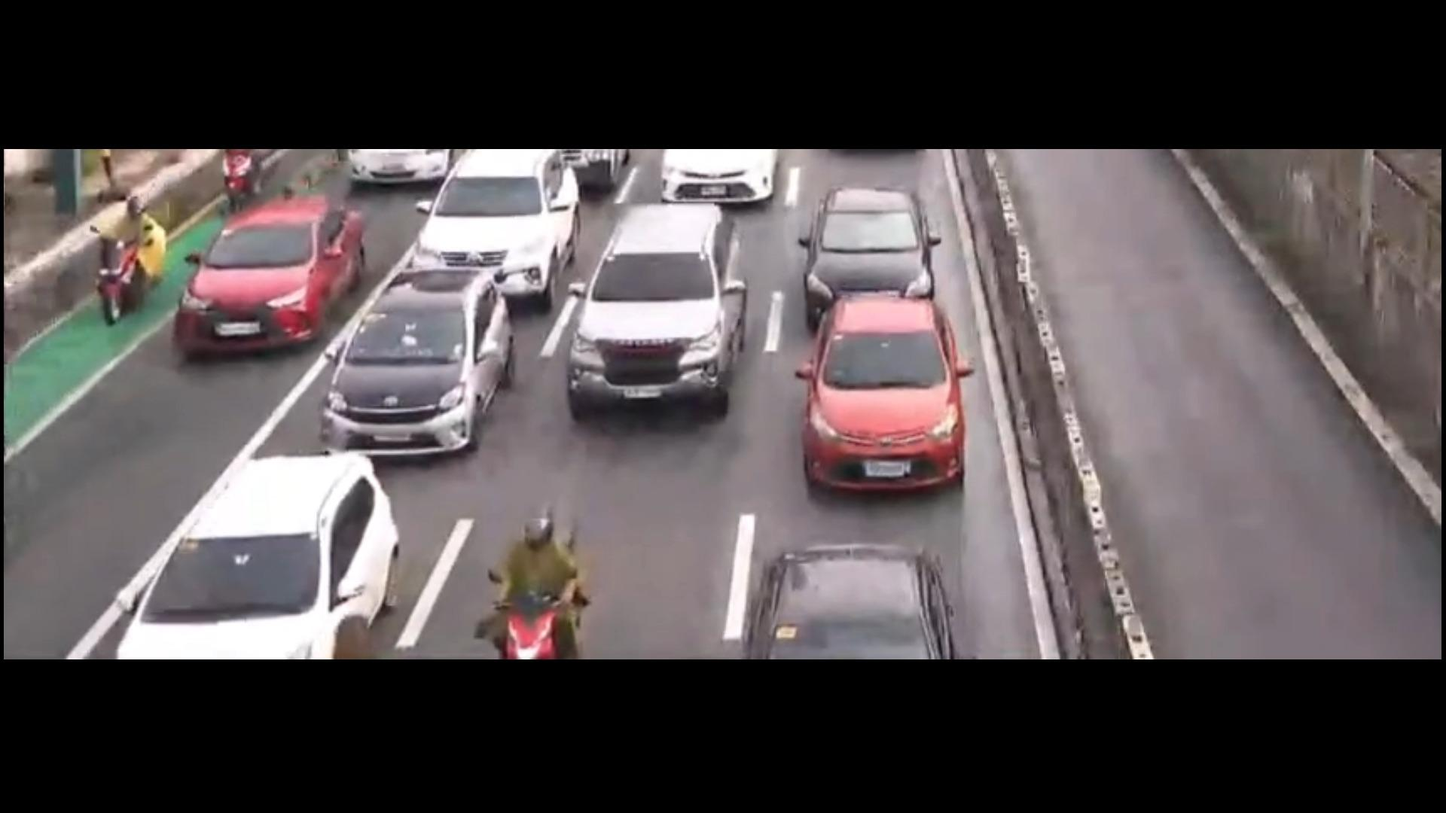Motorcycle: (457, 482, 607, 661), (84, 192, 175, 337), (221, 136, 268, 232)
SUV: (545, 192, 772, 420), (403, 134, 609, 300)
Sedan: (102, 435, 397, 669), (772, 292, 1004, 527), (314, 264, 526, 453), (161, 204, 377, 352), (789, 187, 962, 318)
